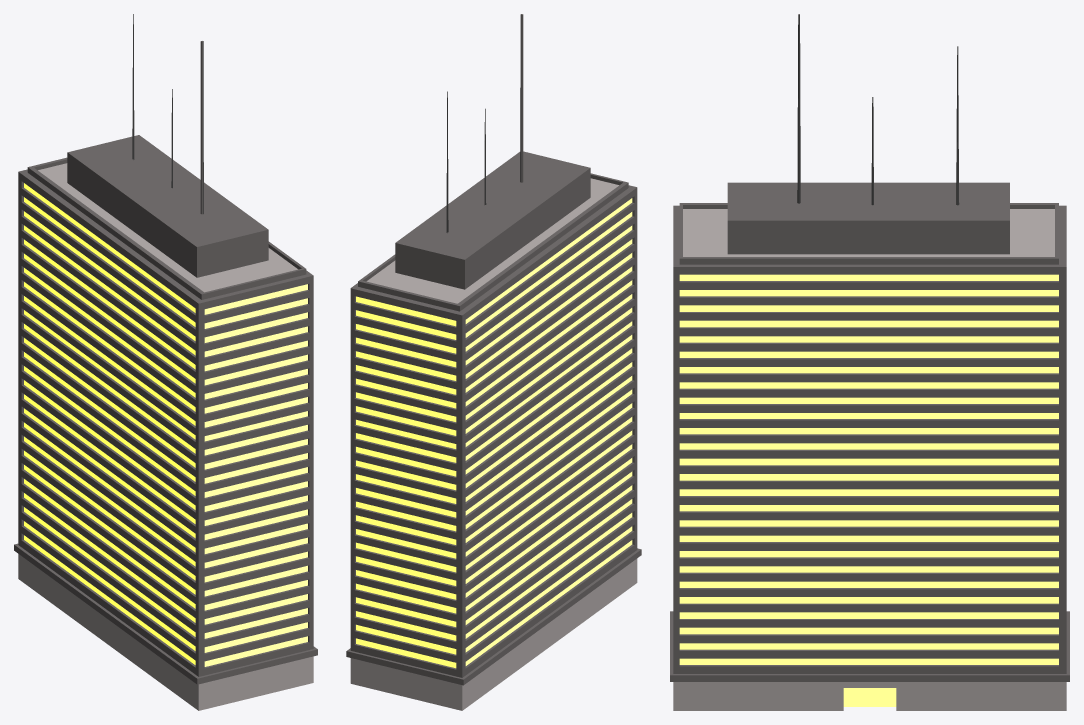
File: building4.glb
The picture shows the model from 3 angles, left to right: view 1: azimuth 30°, elevation 25°; view 2: azimuth 150°, elevation 25°; view 3: azimuth 270°, elevation 25°; orthographic projection. The views are drawn at different scales.
Visible parts, largest first — view 1: Cube; view 2: Cube; view 3: Cube.
Part boxes in pixels (left/top/right/bottom): Cube: left=14, top=14, right=317, bottom=710; Cube: left=346, top=14, right=641, bottom=710; Cube: left=670, top=14, right=1069, bottom=710.
Bounding box in the file's own units: 5.15 × 24.99 × 13.56.
